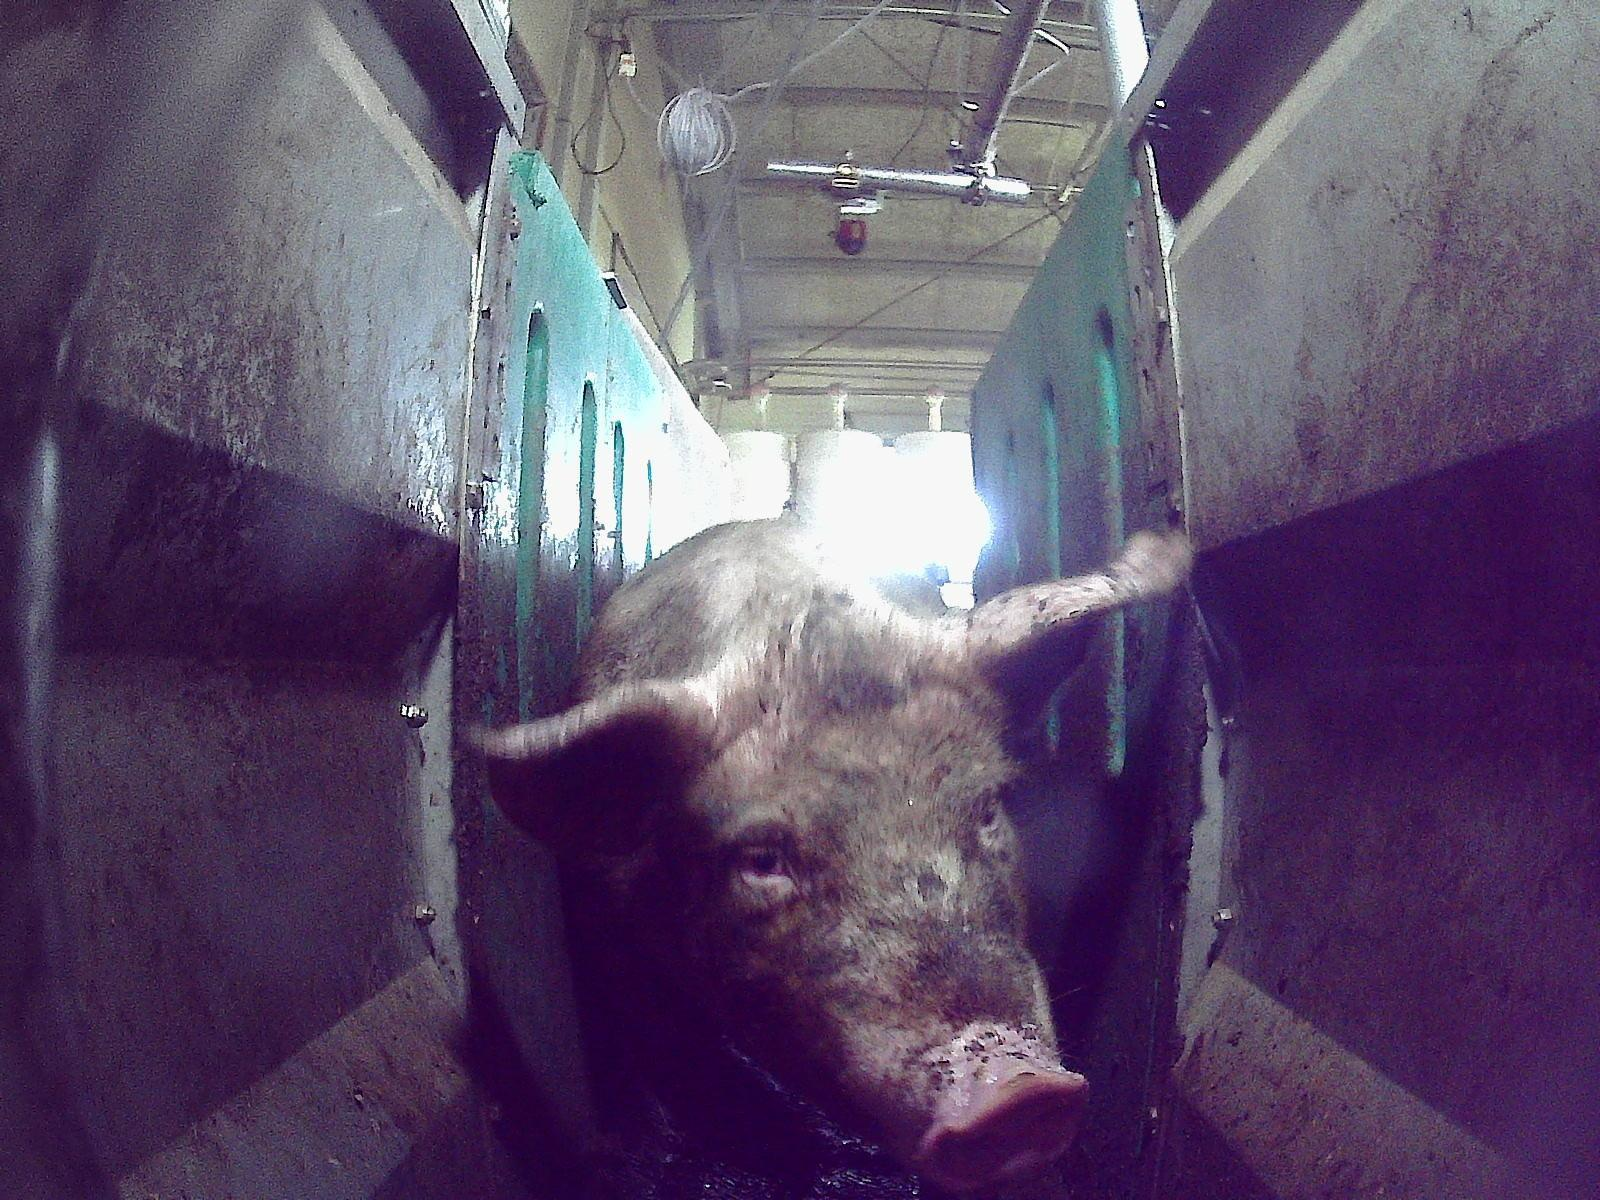Face: (676, 687, 1091, 1191)
